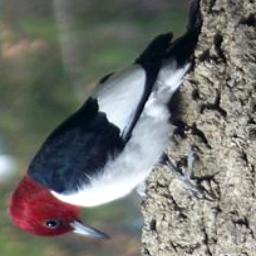Woodpecker: (6, 26, 223, 243)
